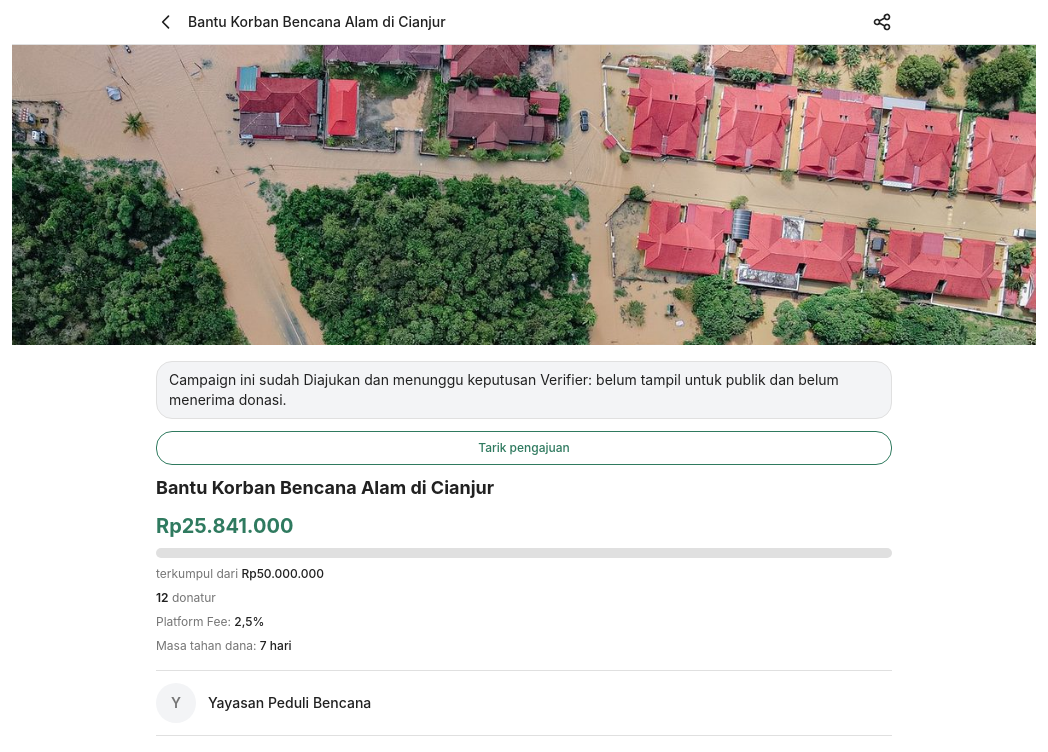
Test case: CampaignDetailView -- the Fundraiser withdraws a pending submission (verification-request 10) › shows the refusal and keeps the button when the withdraw is refused
Click the button "Tarik pengajuan": (524, 448) left=156, top=431, right=892, bottom=465
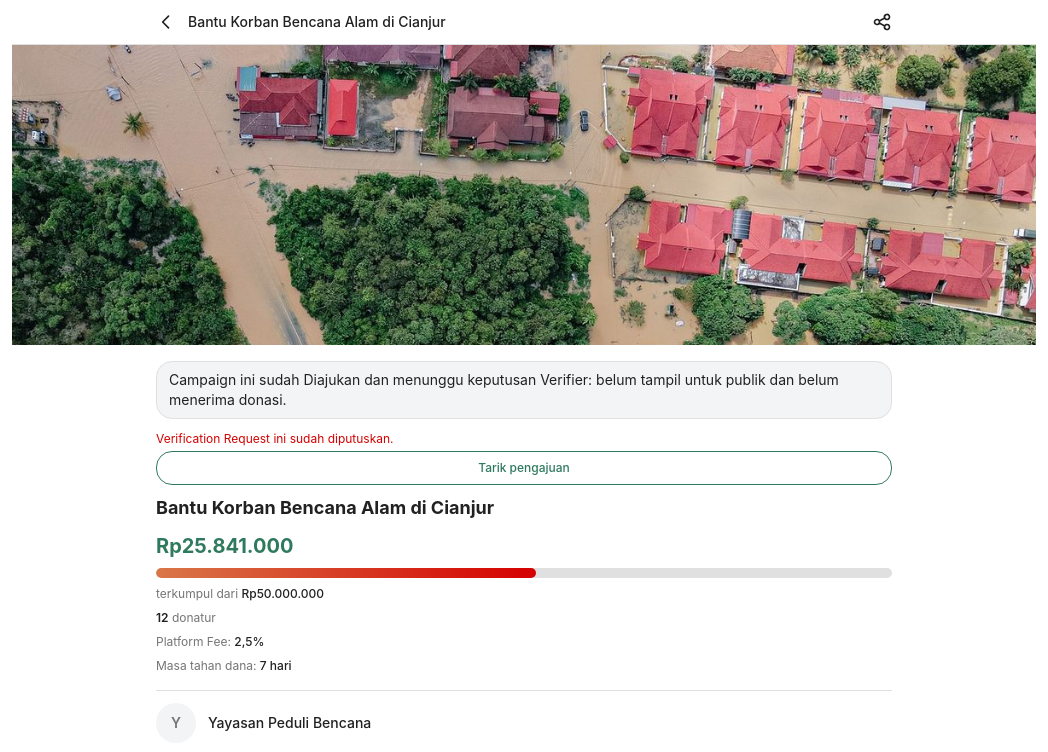
Expected: the button "Tarik pengajuan" is shown, left=156, top=451, right=892, bottom=485
Now the text "Verification Request ini sudah diputuskan." is shown, box left=156, top=431, right=394, bottom=446
